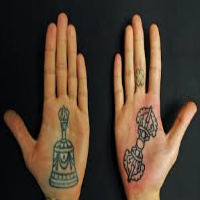ring: (67, 23, 79, 107), (124, 24, 136, 102)
